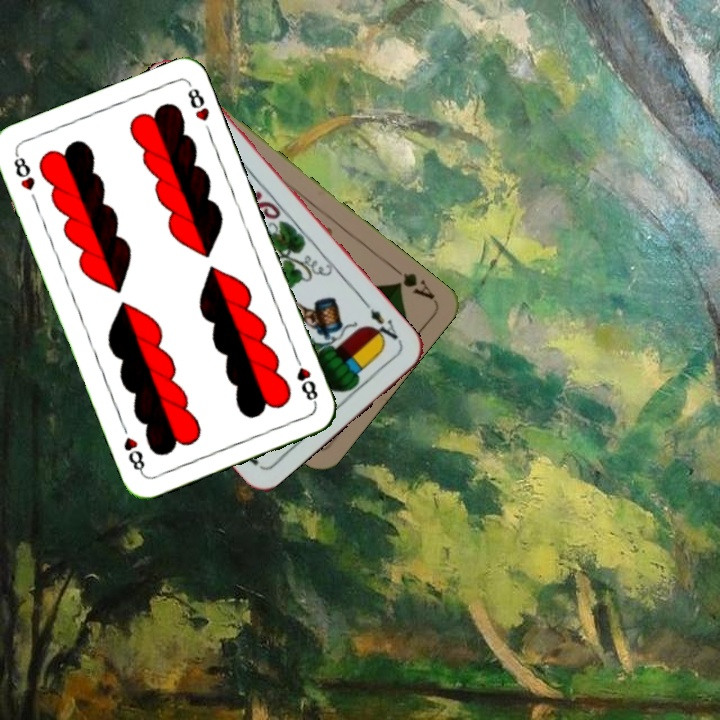EA: (360, 297, 404, 347)
GA: (386, 261, 438, 303)
H8: (290, 350, 321, 407), (9, 149, 38, 194)
